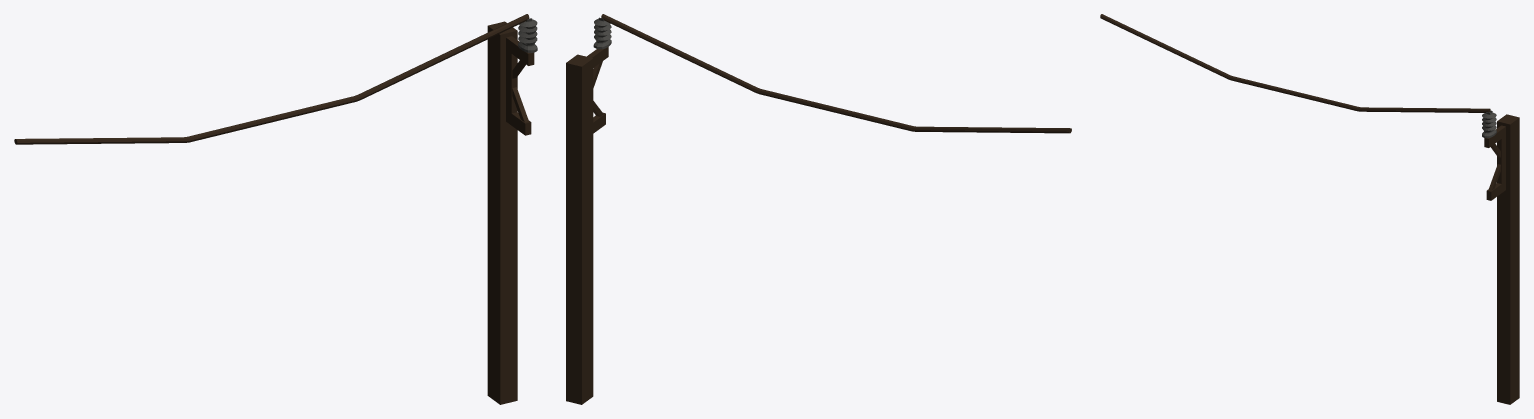
File: TelephonePoleWithWries.fbx
3 renders of one model, left to right at view 1: azimuth 30°, elevation 25°; view 2: azimuth 150°, elevation 25°; view 3: azimuth 330°, elevation 25°, orthographic. The views are drawn at different scales.
Visible parts, largest first — view 1: Cube.001; view 2: Cube.001; view 3: Cube.001.
Boxes of the visible parts, x1=… form: Cube.001: x1=14, y1=14, x2=537, y2=404; Cube.001: x1=566, y1=14, x2=1071, y2=404; Cube.001: x1=1100, y1=14, x2=1519, y2=404.
Bounding box in the file's own units: 1711 × 1264 × 216.
